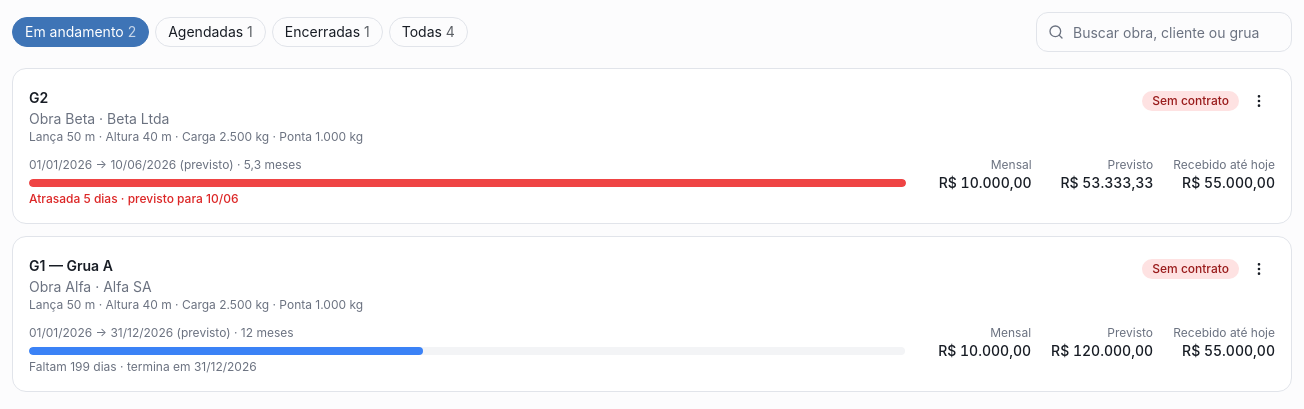
Test: aba Locações › busca por obra, cliente ou grua; mensagem quando não acha
This screenshot has width=1304, height=409.
Type "alfa" into the field labelled "Buscar obra, cliente ou grua" at (1164, 32), box [1036, 12, 1292, 52]
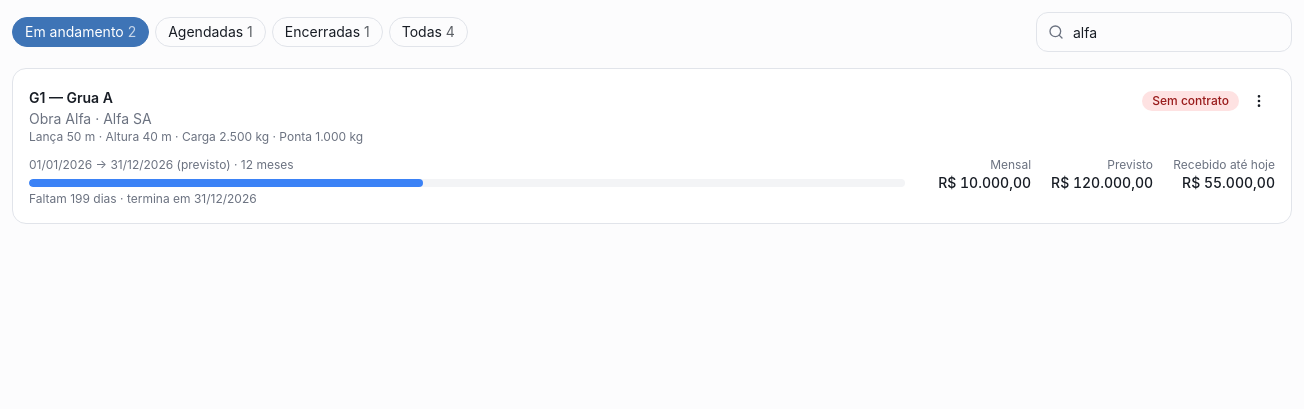
expect the number of list items is 1: met, box [12, 68, 1292, 224]
Replace the text in the field named "Buscar obra, cliente ou grua" with "zzz" at (1164, 32), box [1036, 12, 1292, 52]
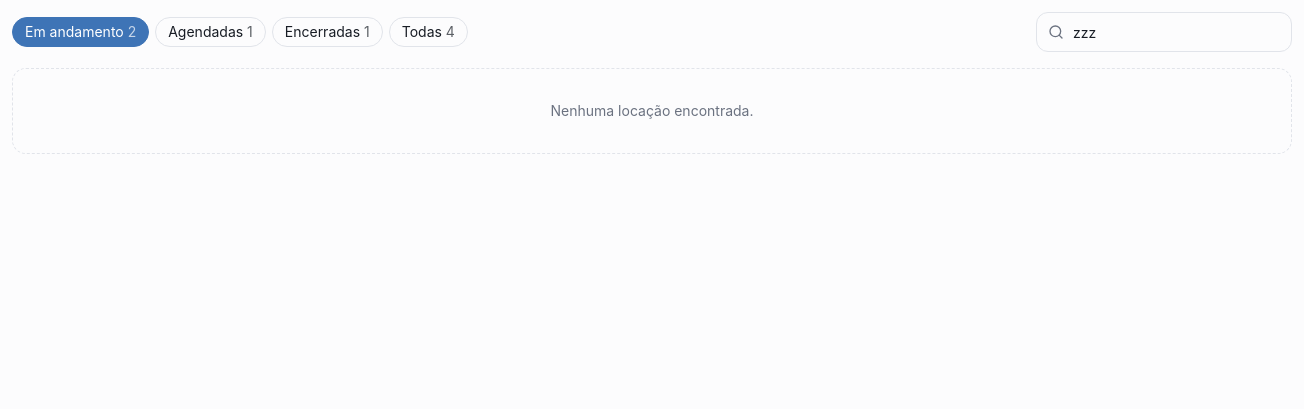
expect the text "Nenhuma locação encontrada." is shown: met, box [12, 68, 1292, 154]
